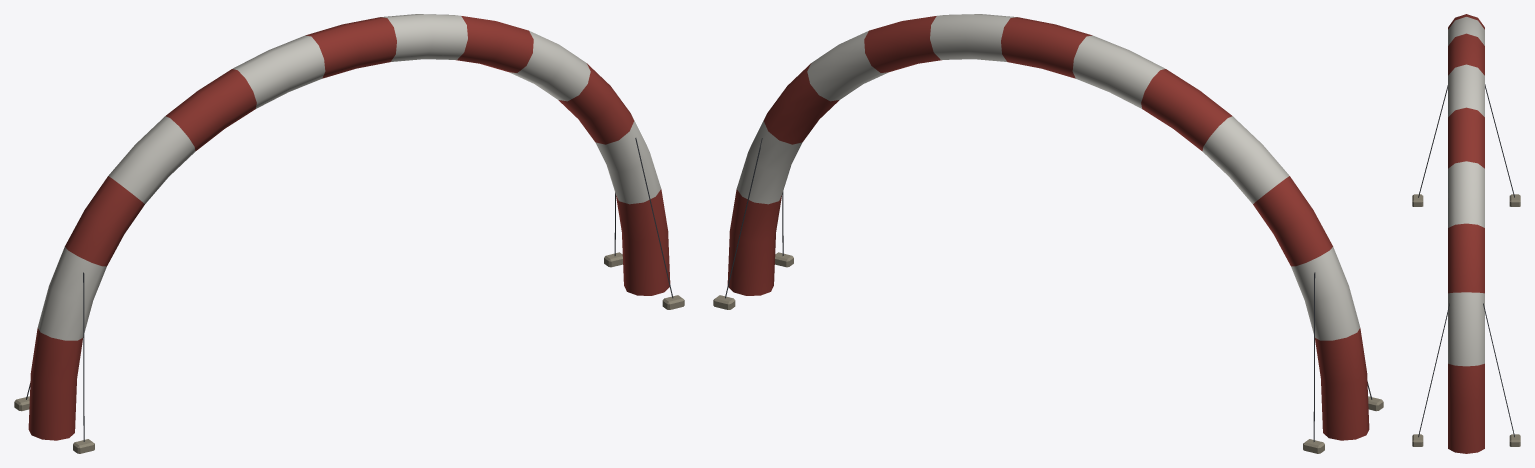
Rendered from gantry_round.glb.
3 views of the same model, side by side, from view 1: azimuth 30°, elevation 25°; view 2: azimuth 150°, elevation 25°; view 3: azimuth 270°, elevation 25° (orthographic). The views are drawn at different scales.
Parts seen in each view (by area): view 1: gantry_round; view 2: gantry_round; view 3: gantry_round.
Boxes of the visible parts, box(x1,y1,x2,y2) form: gantry_round: box(14, 14, 684, 453); gantry_round: box(713, 14, 1383, 453); gantry_round: box(1412, 14, 1520, 453).
Size of the model in its own units: 22 by 11.05 by 3.9.
